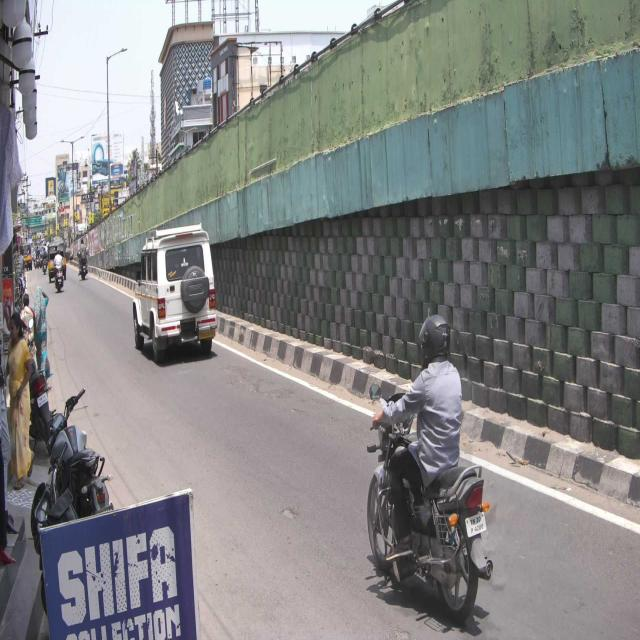single_rider: (366, 309, 494, 622)
